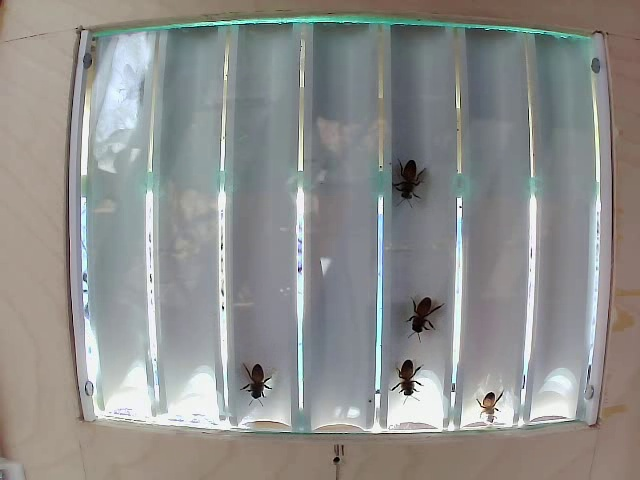bee: (403, 281, 451, 343), (395, 141, 429, 219), (227, 358, 279, 397), (388, 351, 424, 392)
